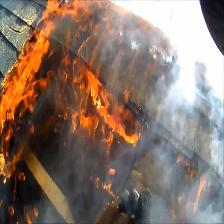fire: (4, 57, 37, 109), (85, 90, 122, 126), (31, 35, 47, 56)
